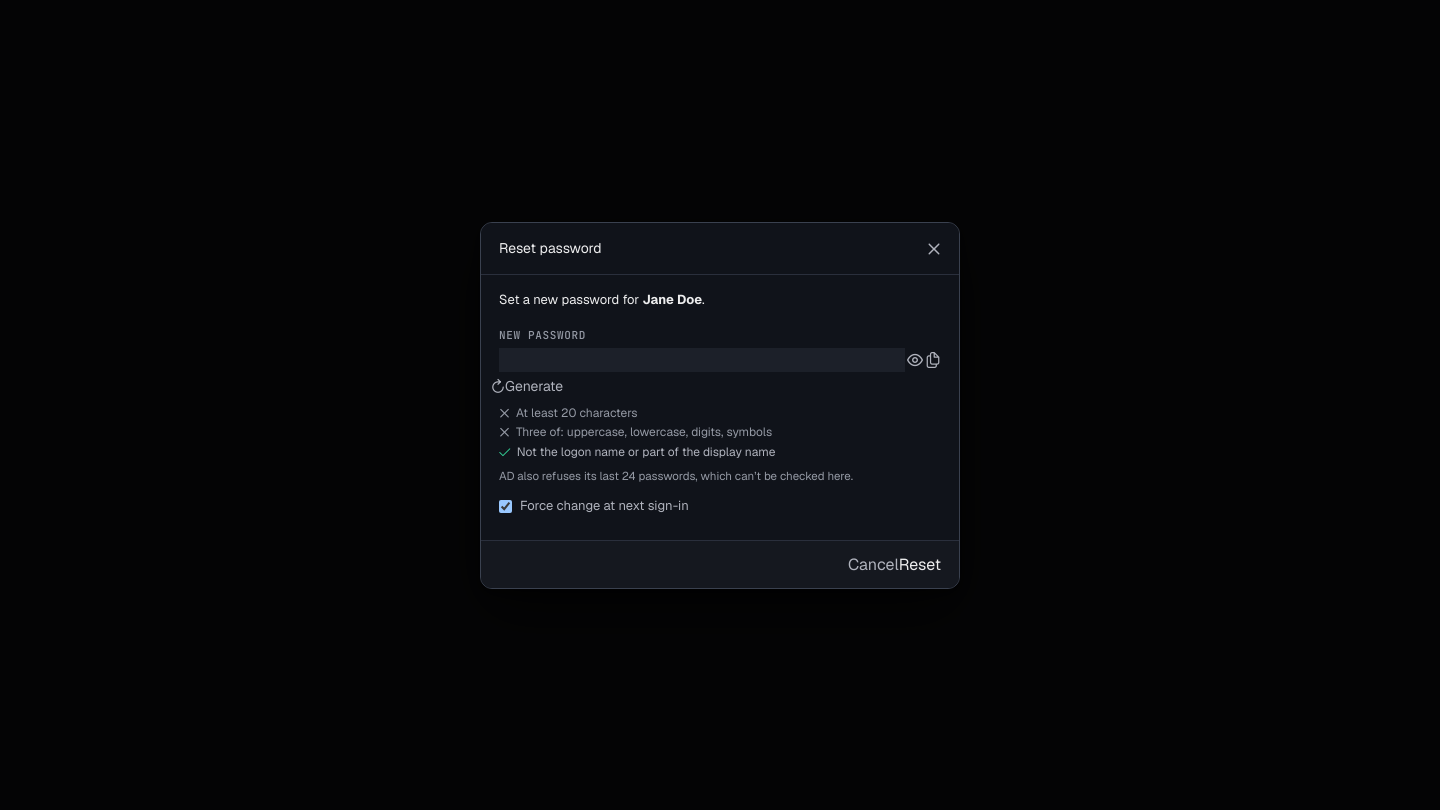
it: the reset password dialog › generates a password that meets the domain’s policy, and shows it
Click the button "Generate".
click(527, 385)  # box [491,375,563,396]
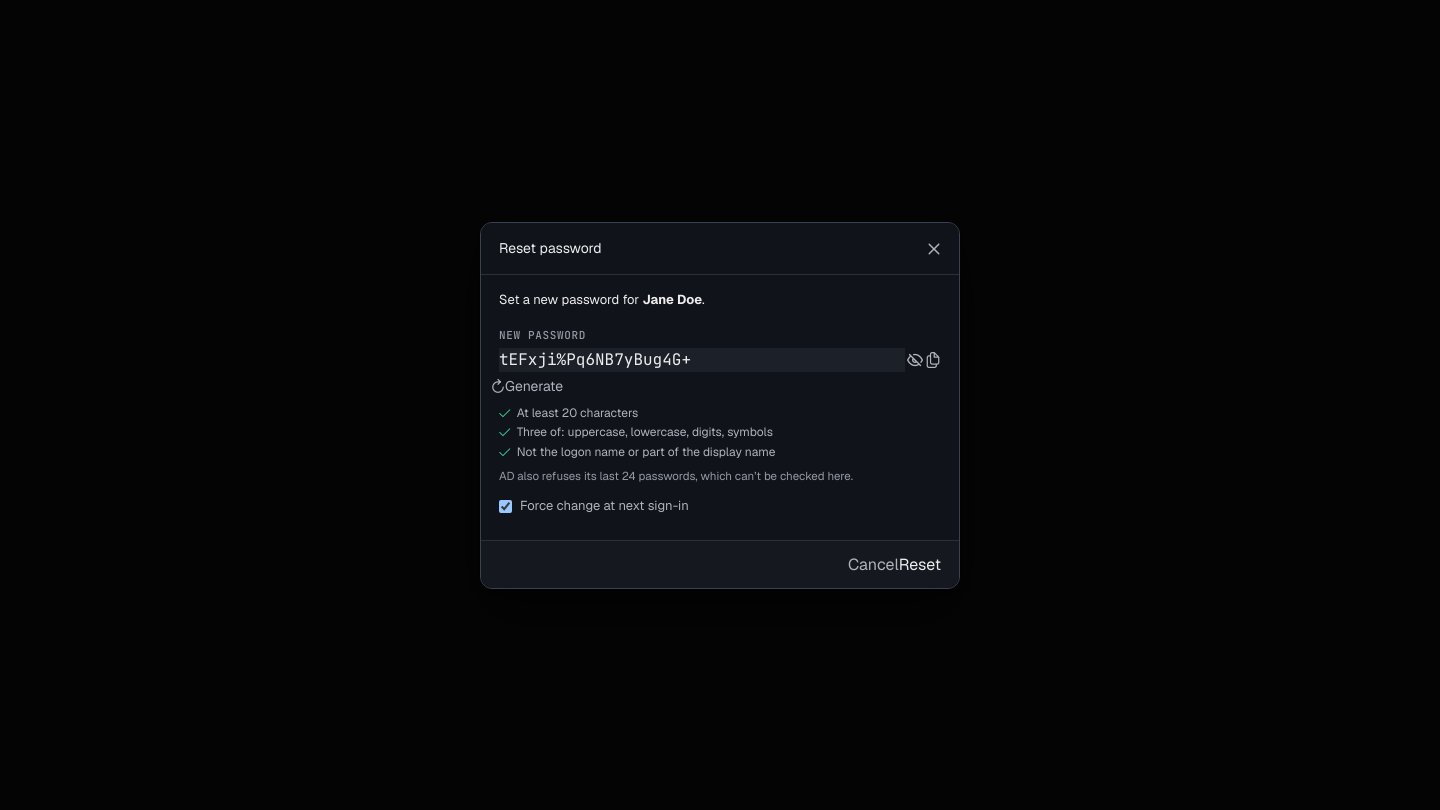
expect the list items read "At least 20 characters", "Three of: uppercase, lowercase, digits, symbols", "Not the logon name or part of the display name", in this order: met, box [499,404,638,420]; [499,424,773,440]; [499,443,775,459]
